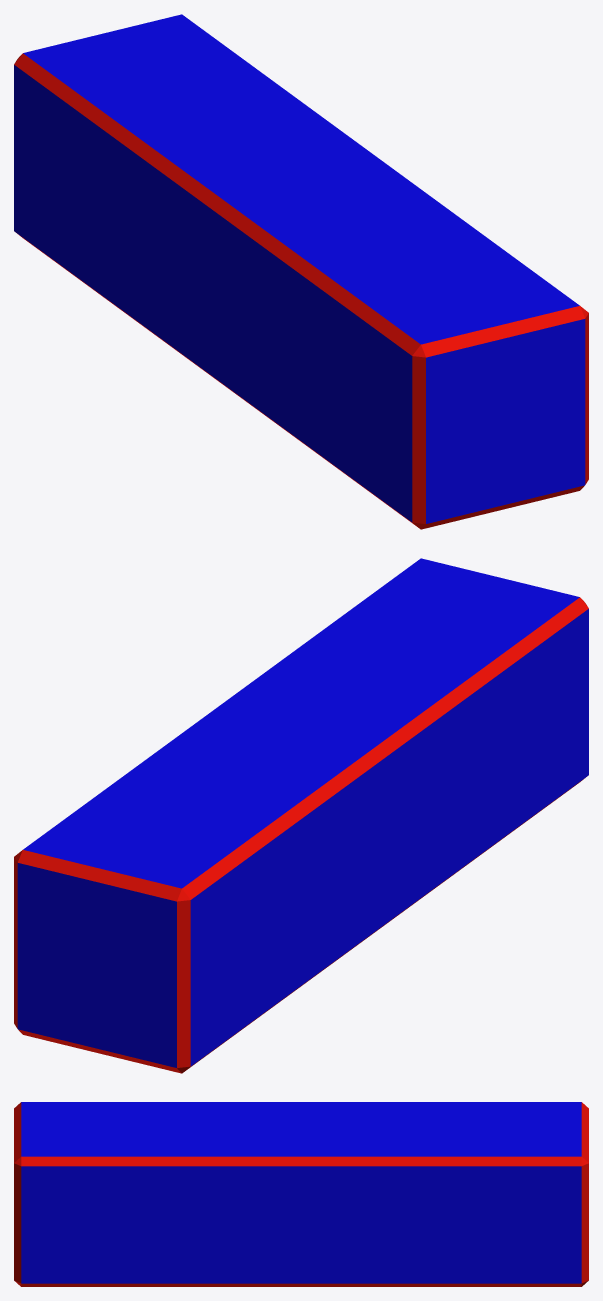
Rendered from HUB_Thin_Platform1.fbx.
3 views of the same model, one above another, from view 1: azimuth 30°, elevation 25°; view 2: azimuth 150°, elevation 25°; view 3: azimuth 270°, elevation 25° (orthographic). The views are drawn at different scales.
Parts seen in each view (by area): view 1: HUB_Thin_Platform1; view 2: HUB_Thin_Platform1; view 3: HUB_Thin_Platform1.
Part boxes in pixels (box(x1,y1,x2,y2)): HUB_Thin_Platform1: box(14, 14, 588, 529); HUB_Thin_Platform1: box(14, 558, 588, 1073); HUB_Thin_Platform1: box(14, 1102, 588, 1286).
Bounding box in the file's own units: 100 × 100 × 400.
